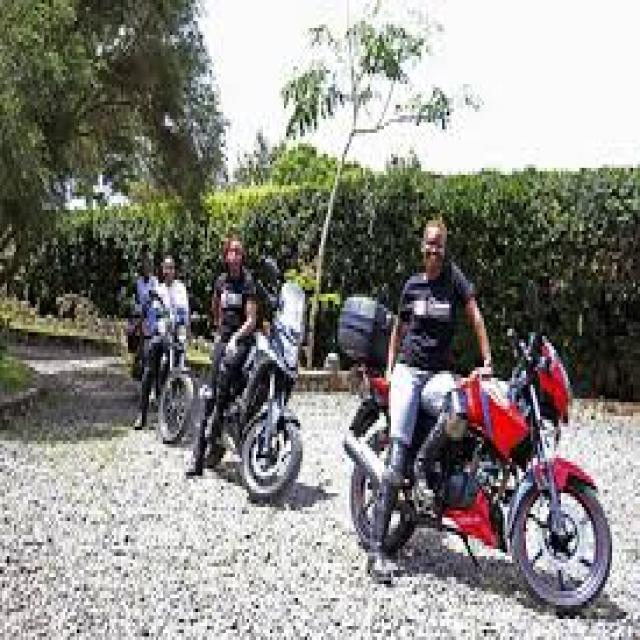bodaboda: (337, 241, 628, 640), (198, 245, 317, 510), (109, 260, 196, 444)
